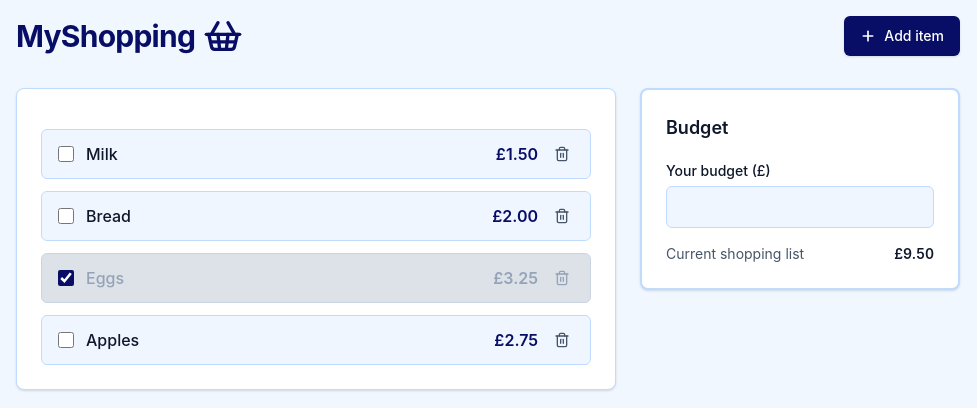
Test: App success flows › removes an item from the list
The image size is (977, 408).
Click the button named "Remove Milk": (562, 154) [550,142,574,166]
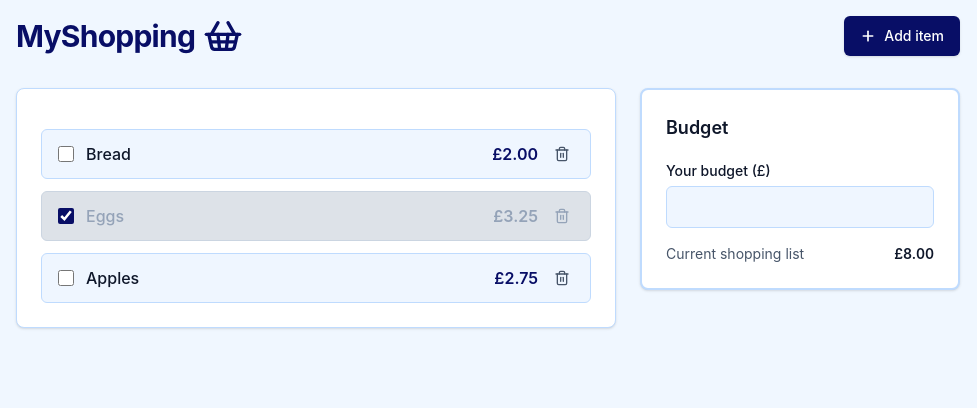
Expected: the text "Milk" is gone
